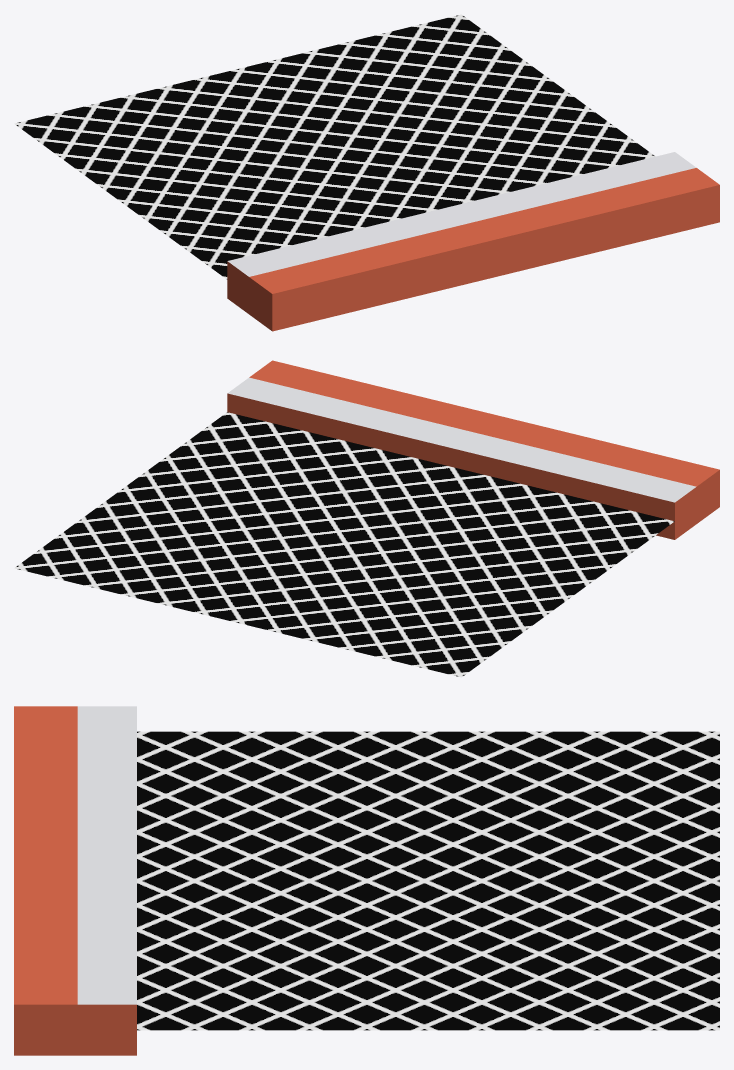
File: metalTileConnectSide.glb
3 renders of one model, top to bottom at view 1: azimuth 30°, elevation 25°; view 2: azimuth 150°, elevation 25°; view 3: azimuth 270°, elevation 25°, orthographic. The views are drawn at different scales.
Parts seen in each view (by area): view 1: metalTileConnectSide; view 2: metalTileConnectSide; view 3: metalTileConnectSide.
Boxes of the visible parts, <box> form: metalTileConnectSide: <box>14,14,719,331</box>; metalTileConnectSide: <box>14,360,719,677</box>; metalTileConnectSide: <box>14,706,719,1055</box>.
Size of the model in its own units: 10 by 0.8 by 10.
Materials: 3 (1 with a texture image).
